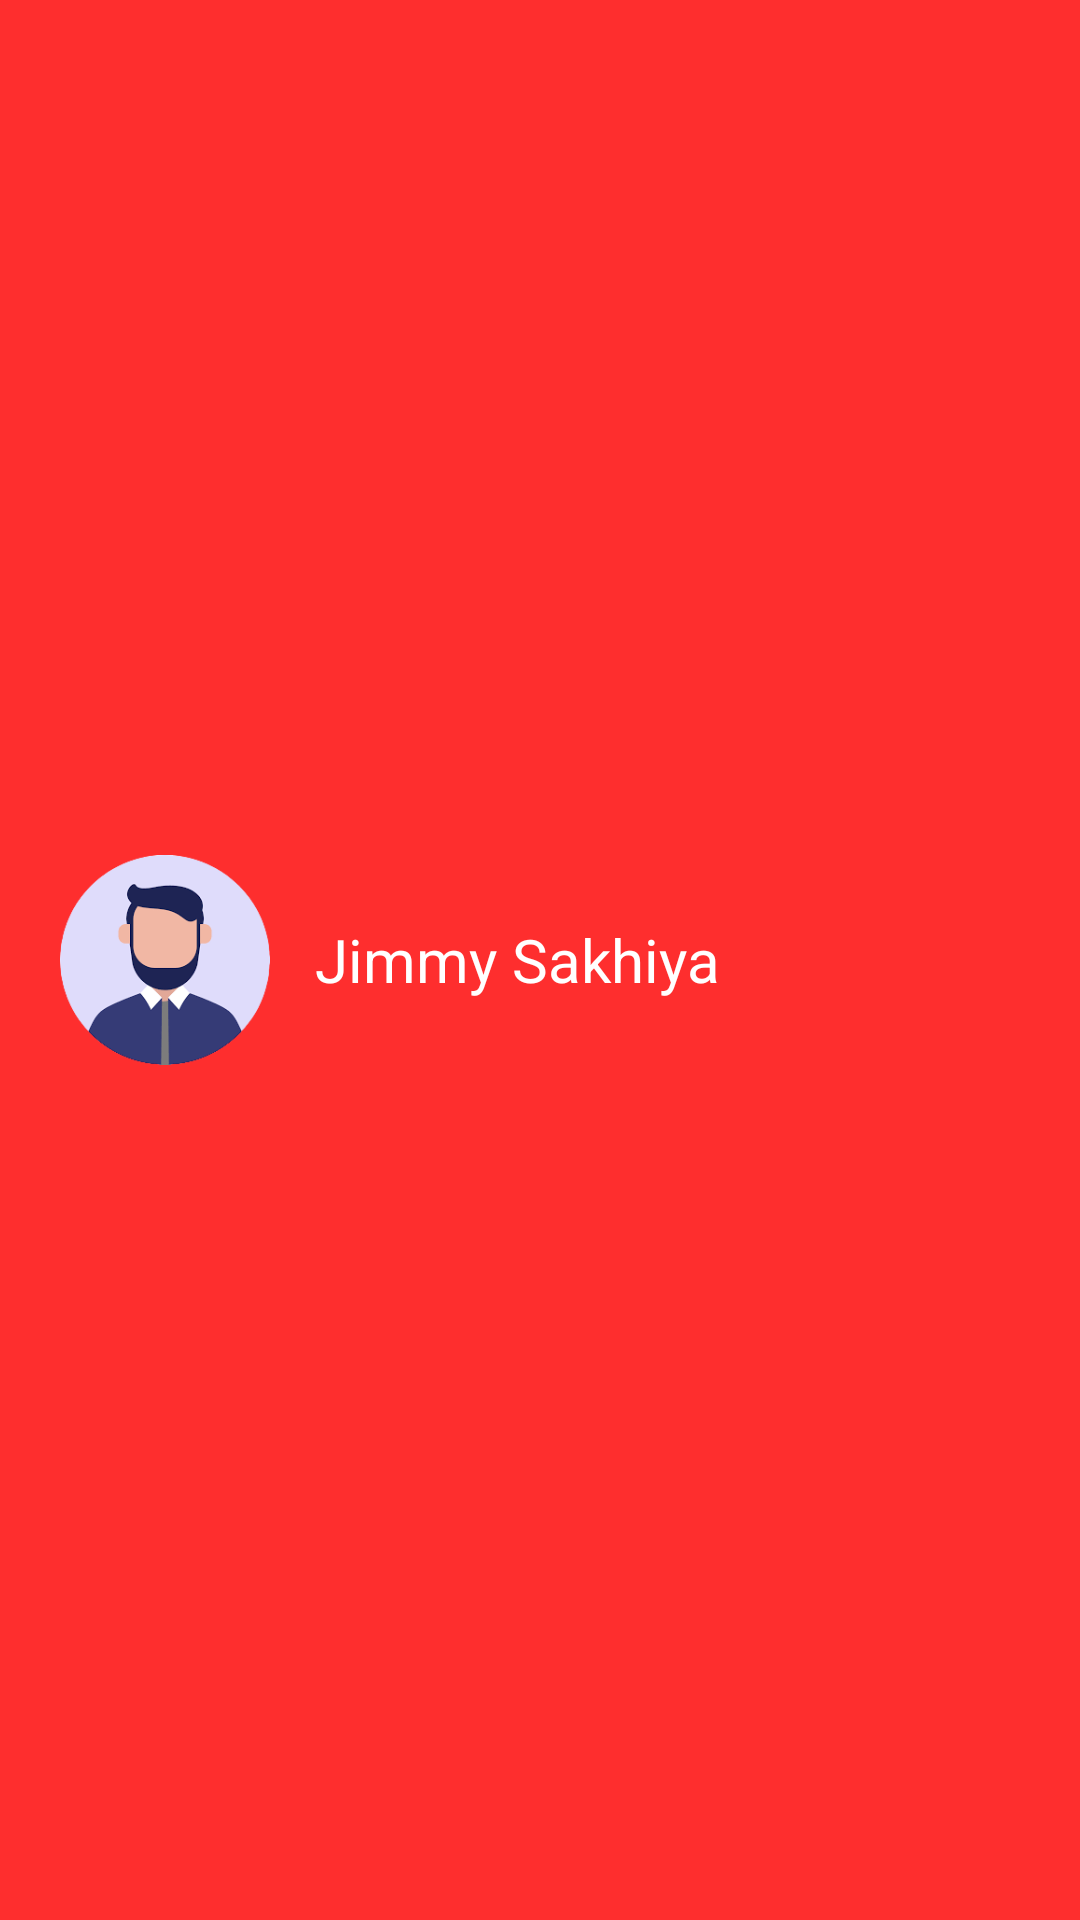

Screen size 1080px×1920px. Icon name, then its box in pixels as (x1, y1, x2, y2):
user: (60, 855, 270, 1065)
